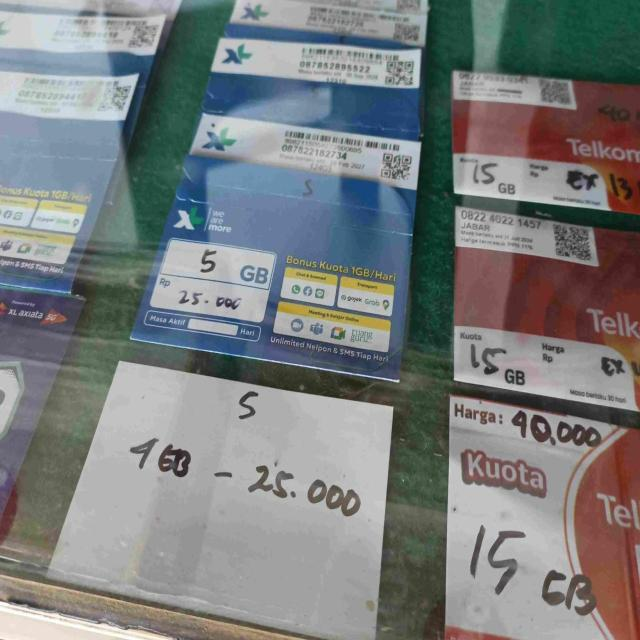Gratis Nelpon: (158, 114, 423, 380), (2, 1, 189, 229), (205, 2, 434, 116)
Telkomsel: (439, 396, 640, 639), (444, 204, 640, 404), (448, 65, 640, 211)
